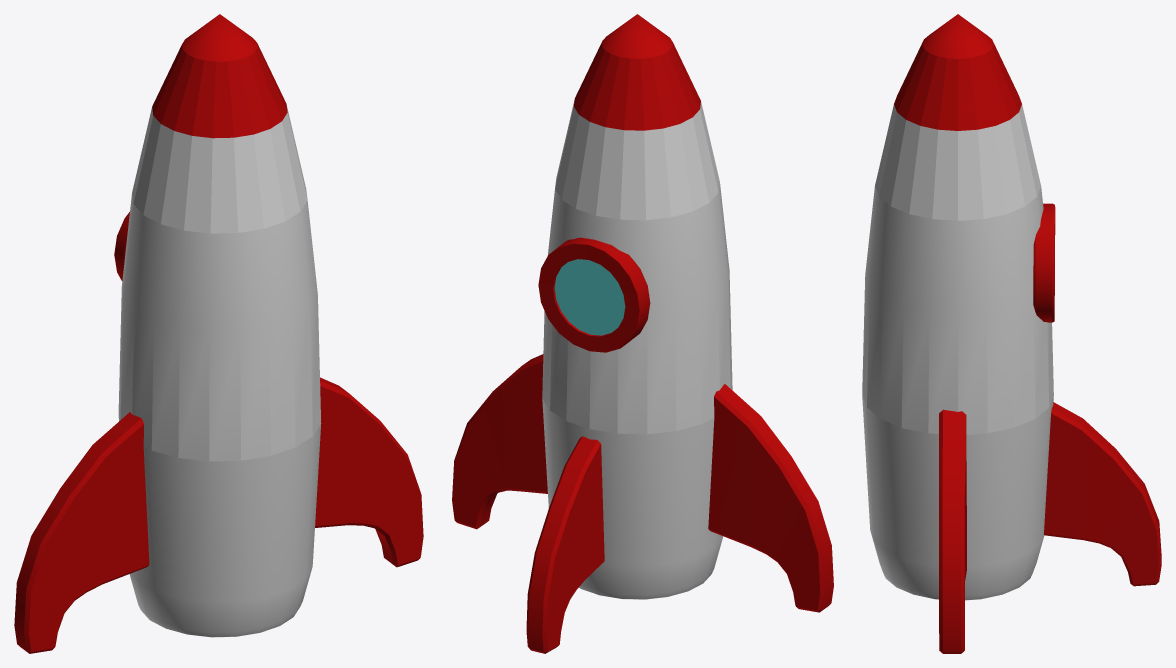
Rendered from rocket.fbx.
The picture shows the model from 3 angles, left to right: view 1: azimuth 30°, elevation 25°; view 2: azimuth 150°, elevation 25°; view 3: azimuth 270°, elevation 25°; orthographic projection. The views are drawn at different scales.
Parts seen in each view (by area): view 1: pCube4; view 2: pCube4; view 3: pCube4.
Boxes of the visible parts, bbox=[...] form: pCube4: bbox=[14, 14, 423, 653]; pCube4: bbox=[452, 14, 833, 653]; pCube4: bbox=[862, 14, 1161, 653].
Size of the model in its own units: 4.98 by 7.22 by 3.45.
